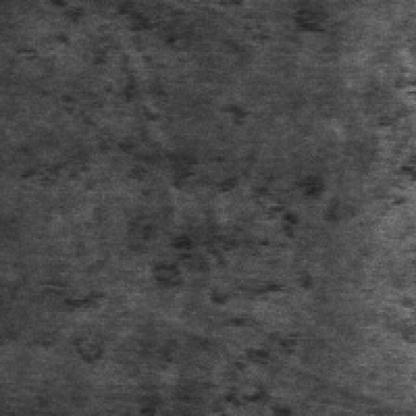rolled-in_scale: (14, 2, 296, 296)
